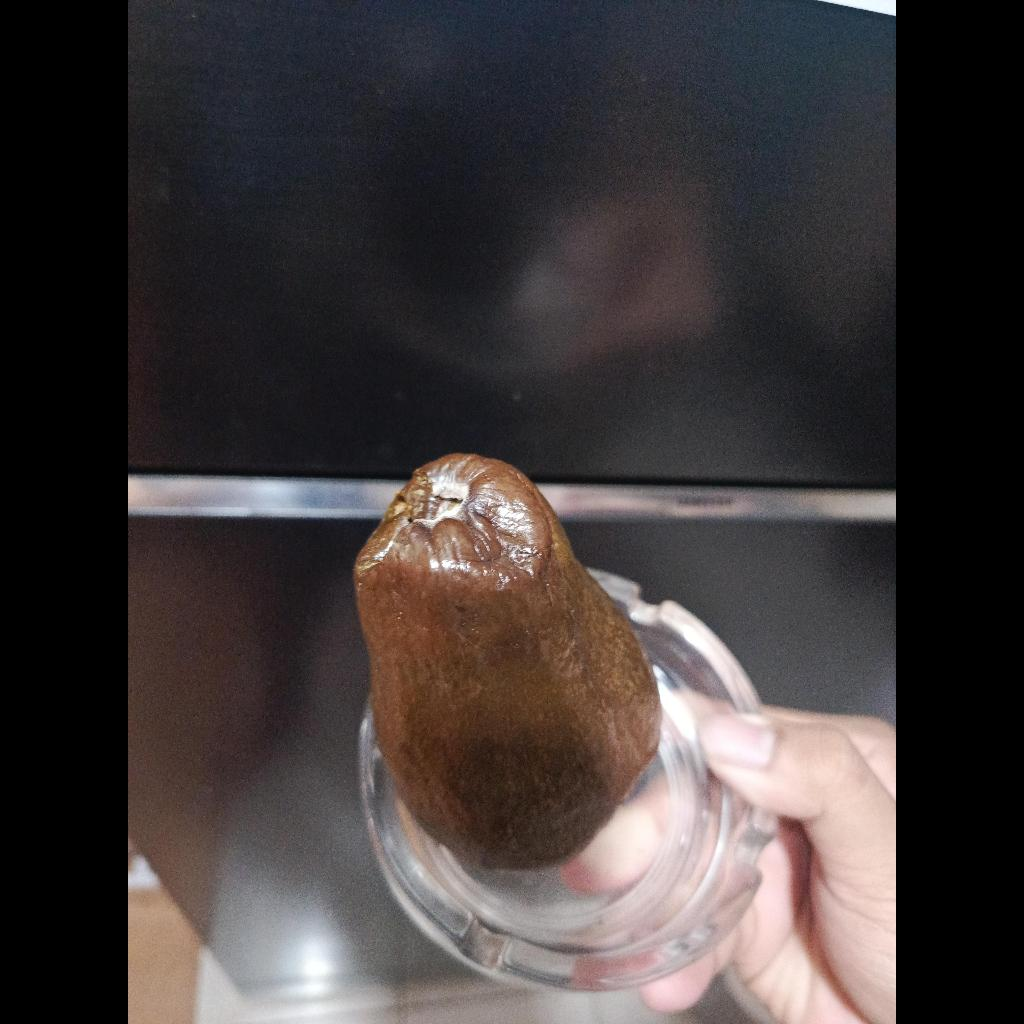stem end rot: (354, 454, 661, 869)
